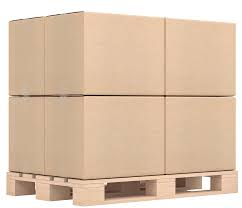box: (84, 11, 165, 96), (84, 97, 165, 181), (165, 96, 237, 177), (165, 17, 237, 98), (44, 95, 86, 180), (45, 10, 84, 96), (8, 15, 45, 96), (8, 96, 45, 175)
pallet: (6, 170, 241, 206)
